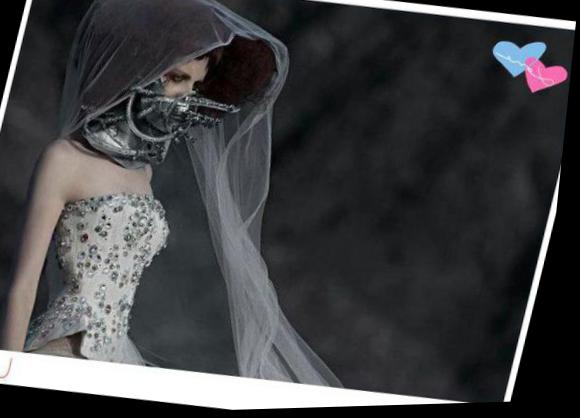WRONG: (141, 63, 213, 143)
